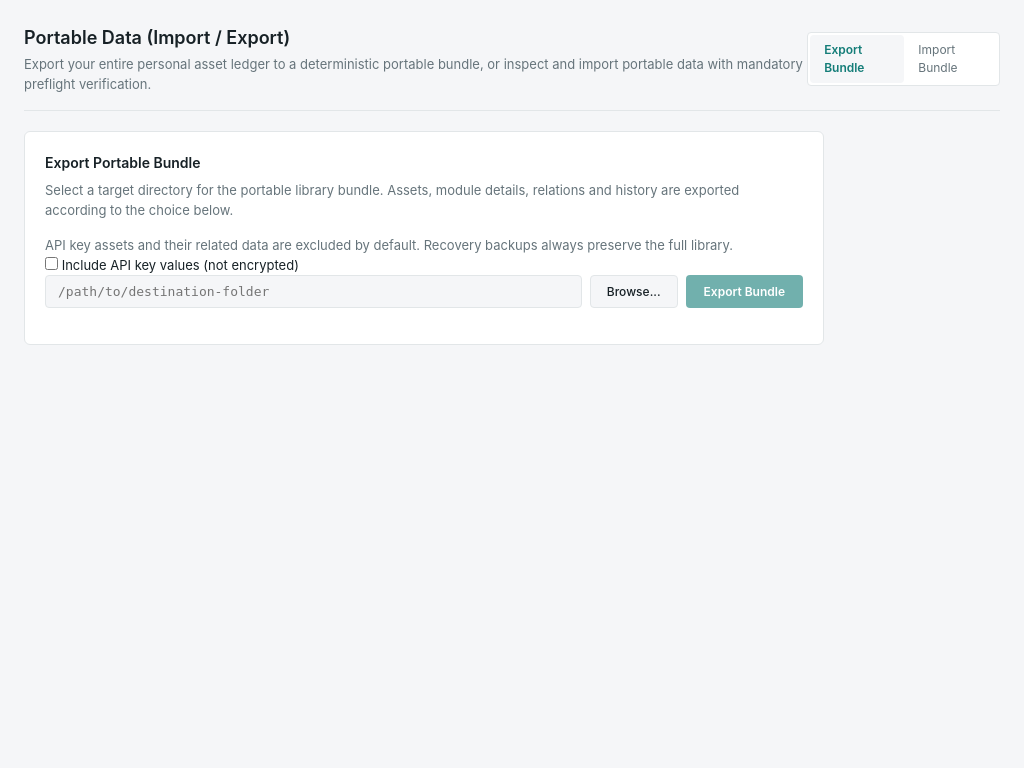
Test case: Import/Export and Settings Workflow UI (P5-09) › Flow 3 (Import Preflight Preview): runs preflight, renders dispositions table, offers one explicit apply action
This screenshot has width=1024, height=768.
# Switch to Import tab
Click the tab with test id "tab-import" at (951, 59), box [904,35,997,83]
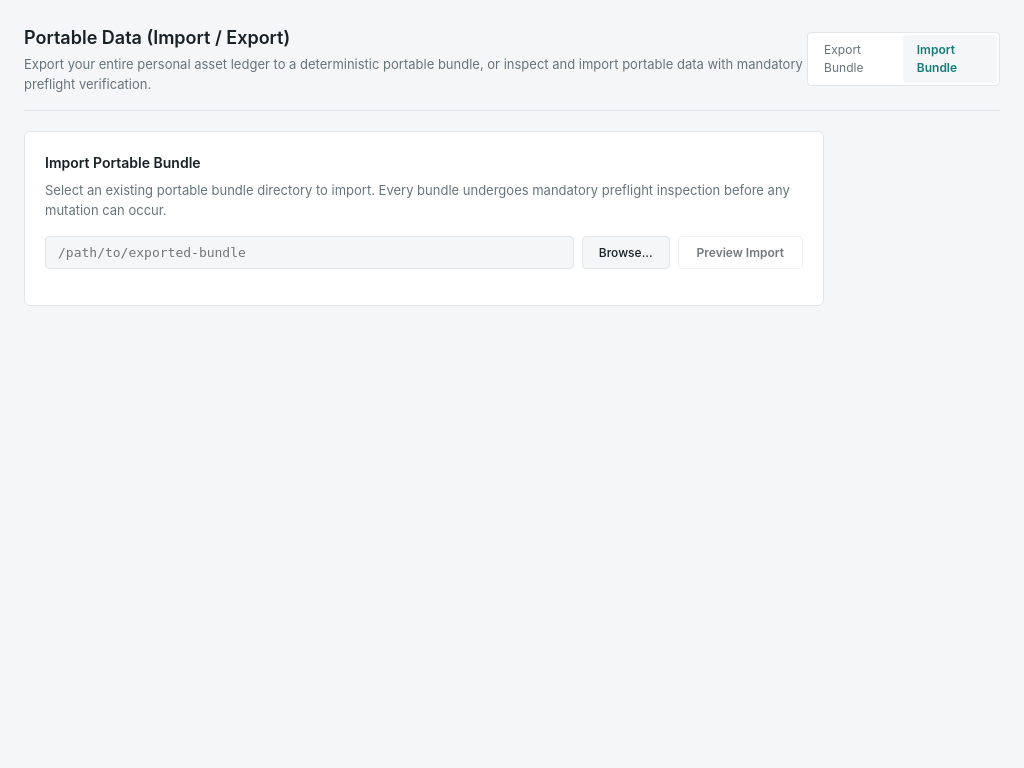
Expected: the heading "Import Portable Bundle" is shown, [45,154,201,171]
Type "/path/to/valid-bundle" into the field with test id "import-dir-input" at (309, 252), box [45,236,574,269]
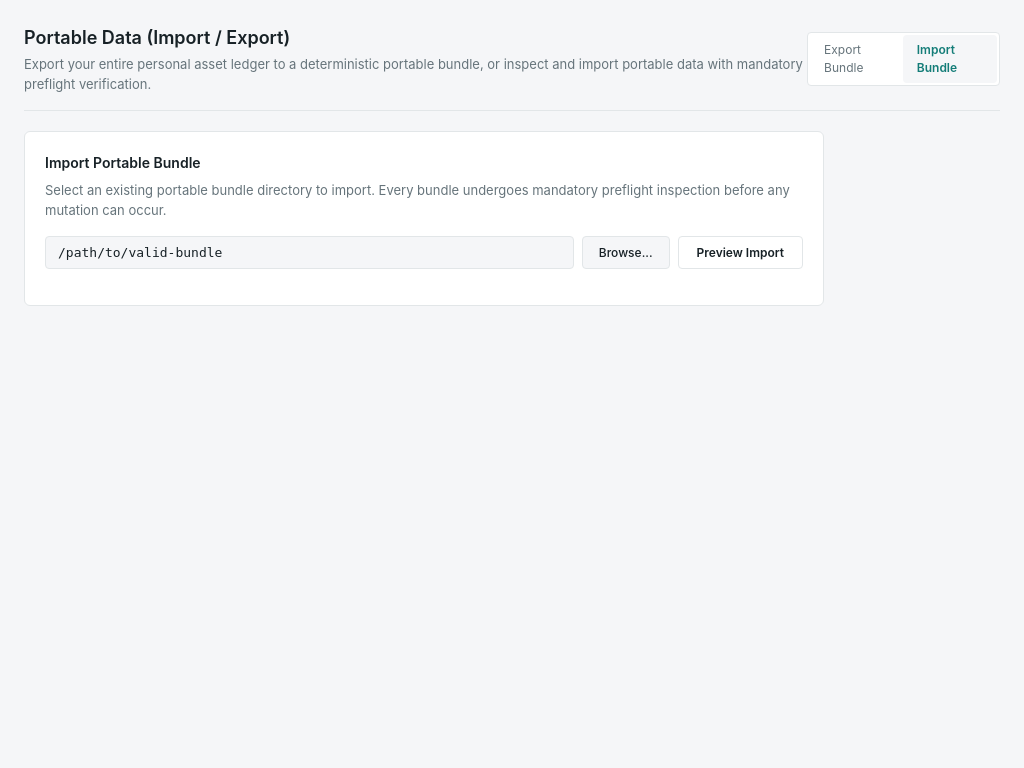
Click the button with test id "preview-import-button" at (740, 252), box [678,236,803,269]
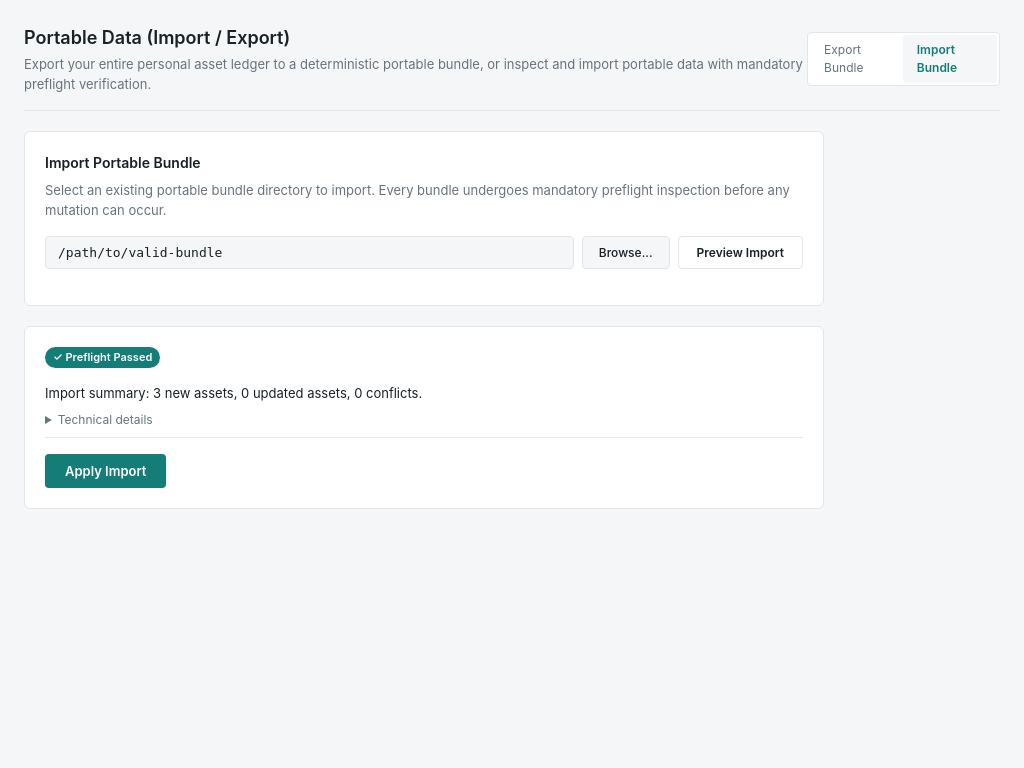
Expected: the element with test id "import-preview-container" is shown, [24,326,824,509]
Expected: the text "✓ Preflight Passed" is shown, [45,347,160,368]
# Dispositions table renders with predicted counts
Click the heading "Technical details" at (105, 420), box [58,412,153,427]
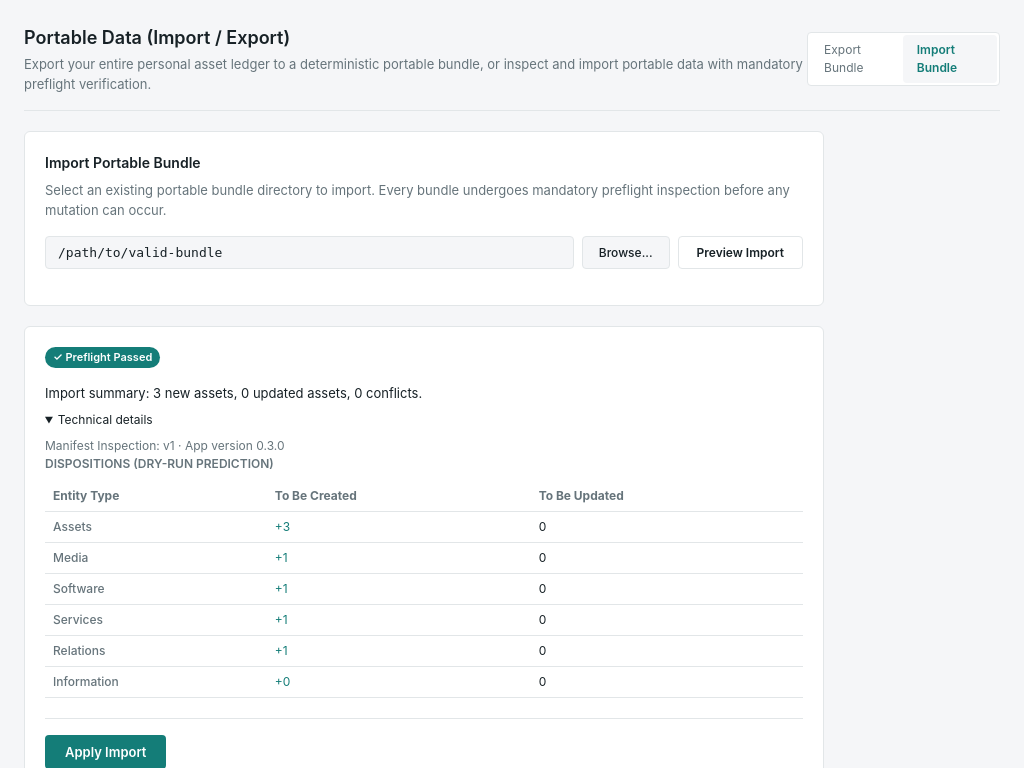
Expected: the button with test id "apply-import-button" is enabled, [45,735,166,767]
Expected: the table with test id "import-dispositions-table" is shown, [45,481,803,698]
Expected: the text "+3" is shown, [267,512,531,542]
